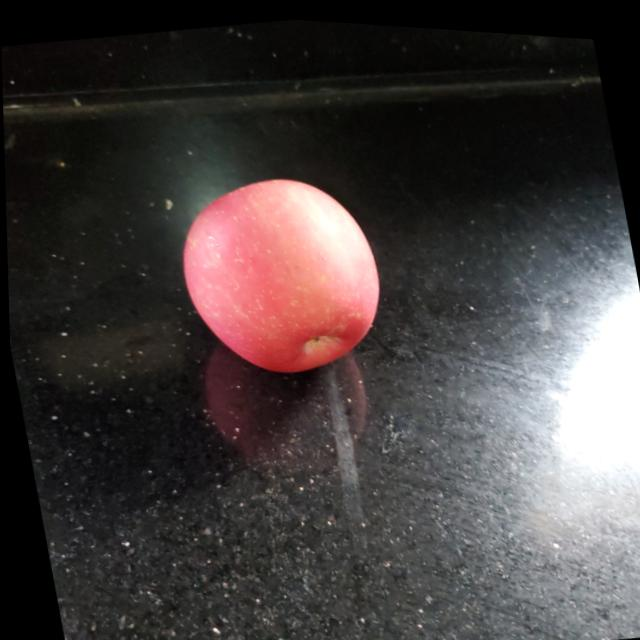apple: (170, 161, 398, 391)
